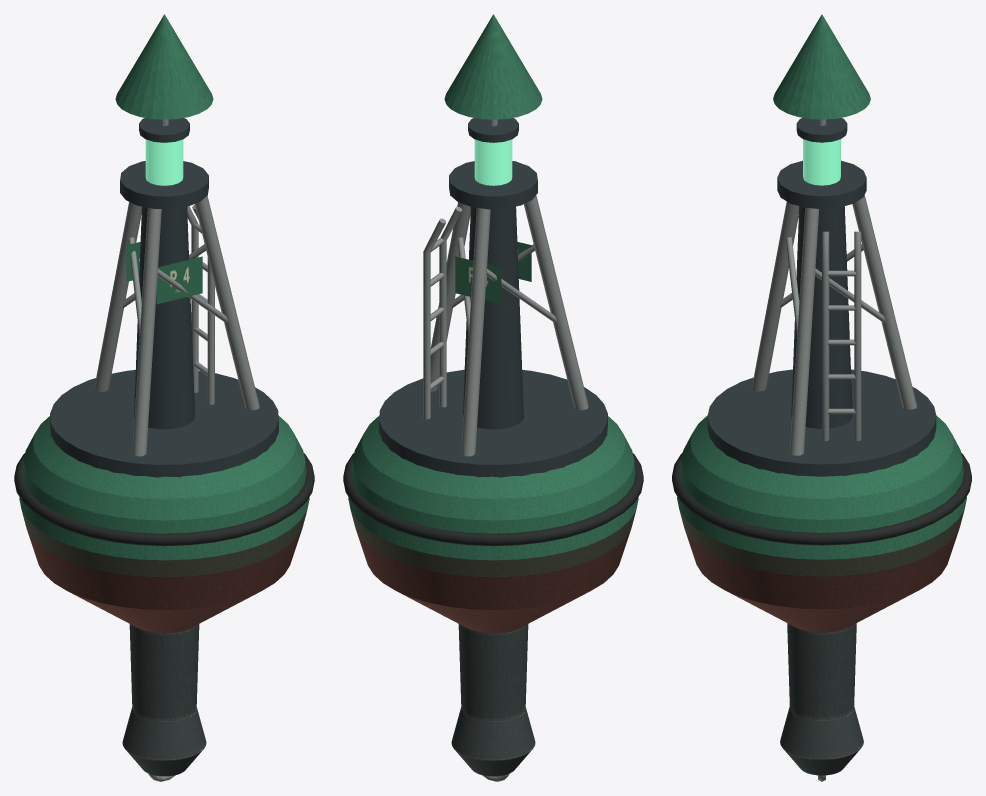
Rendered from buoy.glb.
3 renders of one model, left to right at view 1: azimuth 30°, elevation 25°; view 2: azimuth 150°, elevation 25°; view 3: azimuth 270°, elevation 25°, orthographic.
Visible parts, largest first — view 1: buoy_assembly; view 2: buoy_assembly; view 3: buoy_assembly.
Part boxes in pixels (x1,y1,x2,y2): buoy_assembly: (14, 14, 314, 781); buoy_assembly: (343, 14, 643, 781); buoy_assembly: (672, 14, 971, 781).
Bounding box in the file's own units: 2.14 × 6.04 × 2.14.
6 materials, 2 textured.
